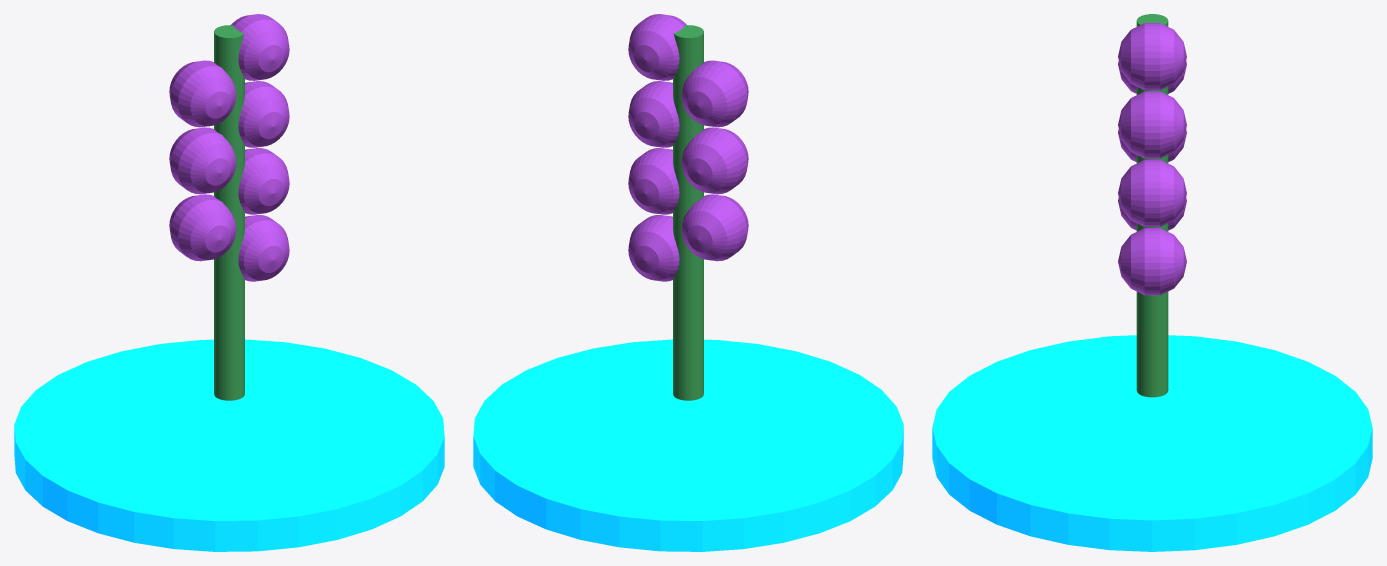
File: french_lavender.glb
The picture shows the model from 3 angles, left to right: view 1: azimuth 30°, elevation 25°; view 2: azimuth 150°, elevation 25°; view 3: azimuth 270°, elevation 25°; orthographic projection. The views are drawn at different scales.
Parts seen in each view (by area): view 1: 10_14_Popular_French_Lavender_ROOT_base, 10_14_Popular_French_Lavender_part_01, 10_14_Popular_French_Lavender_part_07, 10_14_Popular_French_Lavender_part_03, 10_14_Popular_French_Lavender_part_05, 10_14_Popular_French_Lavender_part_08, 10_14_Popular_French_Lavender_part_04, 10_14_Popular_French_Lavender_part_02, 10_14_Popular_French_Lavender_part_06; view 2: 10_14_Popular_French_Lavender_ROOT_base, 10_14_Popular_French_Lavender_part_01, 10_14_Popular_French_Lavender_part_07, 10_14_Popular_French_Lavender_part_03, 10_14_Popular_French_Lavender_part_05, 10_14_Popular_French_Lavender_part_08, 10_14_Popular_French_Lavender_part_04, 10_14_Popular_French_Lavender_part_02, 10_14_Popular_French_Lavender_part_06; view 3: 10_14_Popular_French_Lavender_ROOT_base, 10_14_Popular_French_Lavender_part_01, 10_14_Popular_French_Lavender_part_02, 10_14_Popular_French_Lavender_part_08, 10_14_Popular_French_Lavender_part_06, 10_14_Popular_French_Lavender_part_04.
Boxes of the visible parts, x1,y1,x2,y2 form: 10_14_Popular_French_Lavender_ROOT_base: (14, 339, 444, 551); 10_14_Popular_French_Lavender_part_01: (214, 25, 244, 400); 10_14_Popular_French_Lavender_part_07: (169, 60, 236, 127); 10_14_Popular_French_Lavender_part_03: (169, 194, 236, 261); 10_14_Popular_French_Lavender_part_05: (169, 127, 236, 194); 10_14_Popular_French_Lavender_part_08: (231, 14, 289, 80); 10_14_Popular_French_Lavender_part_04: (238, 148, 289, 214); 10_14_Popular_French_Lavender_part_02: (238, 215, 289, 281); 10_14_Popular_French_Lavender_part_06: (238, 81, 289, 147); 10_14_Popular_French_Lavender_ROOT_base: (473, 339, 903, 551); 10_14_Popular_French_Lavender_part_01: (673, 25, 703, 400); 10_14_Popular_French_Lavender_part_07: (681, 60, 748, 127); 10_14_Popular_French_Lavender_part_03: (681, 194, 748, 261); 10_14_Popular_French_Lavender_part_05: (681, 127, 748, 194); 10_14_Popular_French_Lavender_part_08: (628, 14, 686, 80); 10_14_Popular_French_Lavender_part_04: (628, 148, 679, 214); 10_14_Popular_French_Lavender_part_02: (628, 215, 679, 281); 10_14_Popular_French_Lavender_part_06: (628, 81, 679, 147); 10_14_Popular_French_Lavender_ROOT_base: (932, 335, 1372, 551); 10_14_Popular_French_Lavender_part_01: (1136, 14, 1168, 397); 10_14_Popular_French_Lavender_part_02: (1118, 228, 1186, 295); 10_14_Popular_French_Lavender_part_08: (1118, 23, 1186, 90); 10_14_Popular_French_Lavender_part_06: (1118, 91, 1186, 158); 10_14_Popular_French_Lavender_part_04: (1118, 159, 1186, 226).
Bounding box in the file's own units: 0.76 × 0.85 × 0.76.
